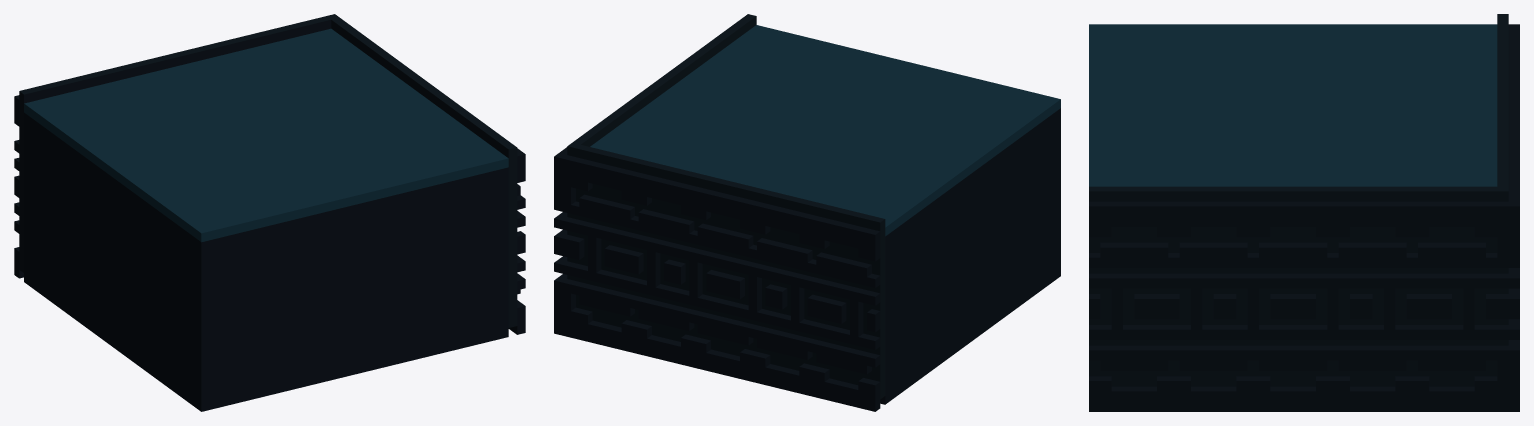
The model's file is Block_Base_Edge.obj.
The picture shows the model from 3 angles, left to right: view 1: azimuth 30°, elevation 25°; view 2: azimuth 150°, elevation 25°; view 3: azimuth 270°, elevation 25°; orthographic projection. The views are drawn at different scales.
Bounding box in the file's own units: 0.95 × 0.525 × 0.95.
